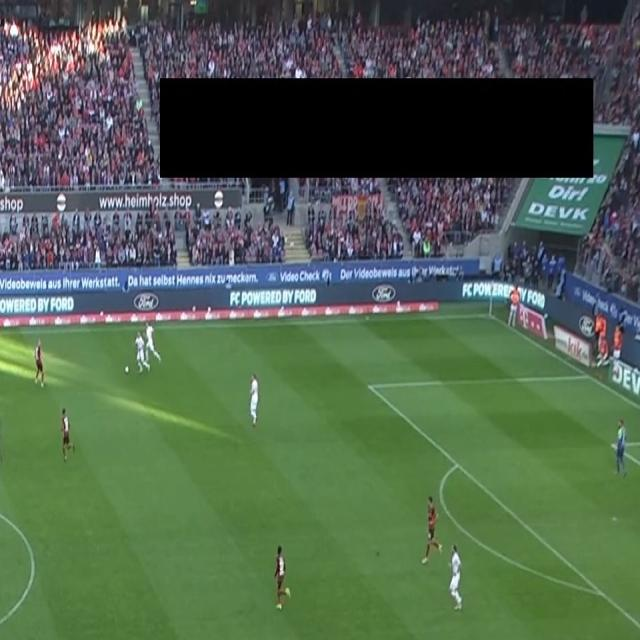ball: (124, 364, 130, 374)
